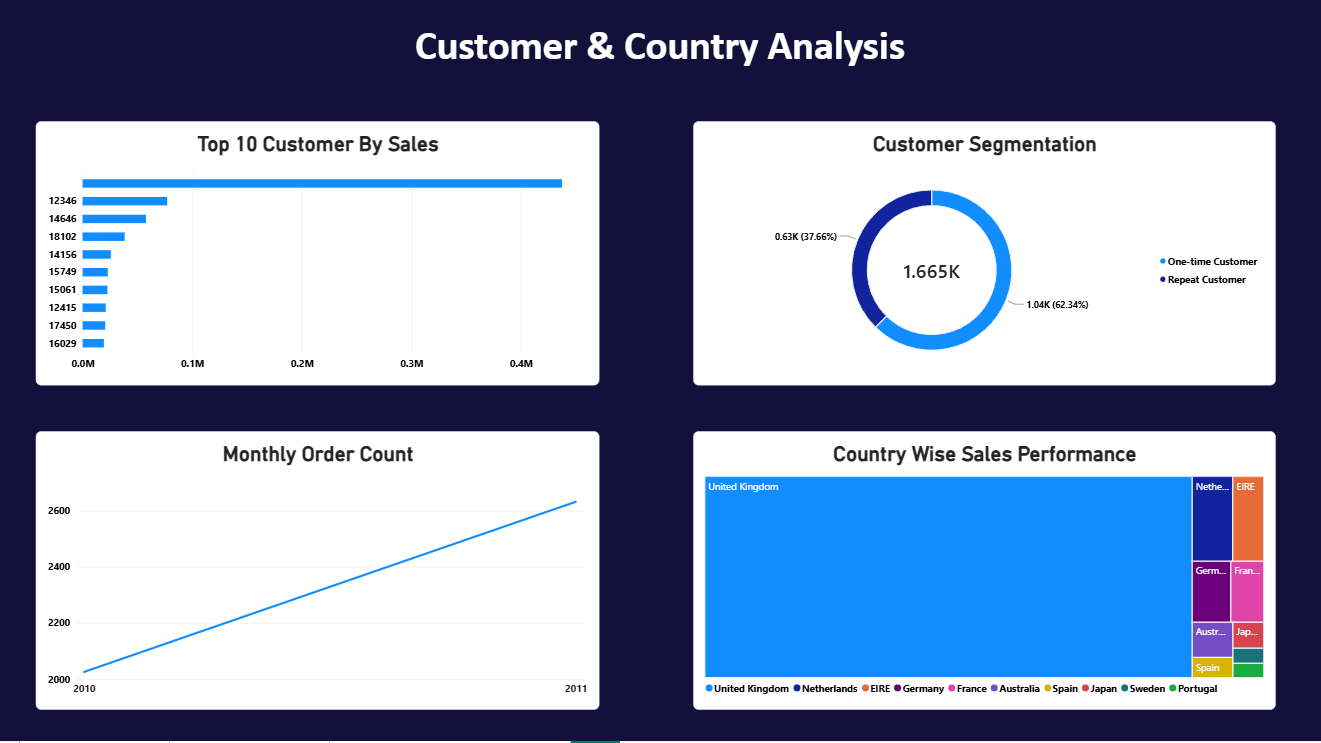

This screenshot's page, from the dashboard's own definition file:
{"tool":"powerbi","page":{"name":"Customer&Country Analysis","canvas":[1920,1080],"ordinal":2},"visuals":[{"type":"textbox","box":[0,0,1919.6,169.6],"z":0},{"type":"clusteredBarChart","title":"Top 10 Customer By Sales","fields":{"Category":["retail_analytics online_retail.CustomerID"],"Y":["retail_analytics online_retail.Total Sales"]},"box":[55.4,182.1,816.1,382.1],"z":1000},{"type":"donutChart","title":"Customer Segmentation","fields":{"Category":["Customer segmentation.Customer Type"],"Y":["CountNonNull(Customer segmentation.CustomerID)"]},"box":[1007.1,182.1,842.9,382.1],"z":2000},{"type":"lineChart","title":"Monthly Order Count","fields":{"Category":["retail_analytics online_retail.InvoiceDate.Variation.Date Hierarchy.Year","retail_analytics online_retail.InvoiceDate.Variation.Date Hierarchy.Month"],"Y":["retail_analytics online_retail.Total Orders"]},"box":[55.4,632.1,816.1,403.6],"z":3000},{"type":"treemap","title":"Country Wise Sales Performance","fields":{"Group":["retail_analytics online_retail.Country"],"Values":["retail_analytics online_retail.Total Sales"]},"box":[1007.1,632.1,842.9,403.6],"z":4000}]}

Visuals, with their boxes in screenshot pixels (x1, y1, x2, y2), scaled from the page's 1920x1080 canvas onto the 1321x743 screenshot:
textbox: region(0, 0, 1320, 117)
"Top 10 Customer By Sales" clusteredBarChart: region(38, 125, 600, 388)
"Customer Segmentation" donutChart: region(693, 125, 1273, 388)
"Monthly Order Count" lineChart: region(38, 435, 600, 713)
"Country Wise Sales Performance" treemap: region(693, 435, 1273, 713)
